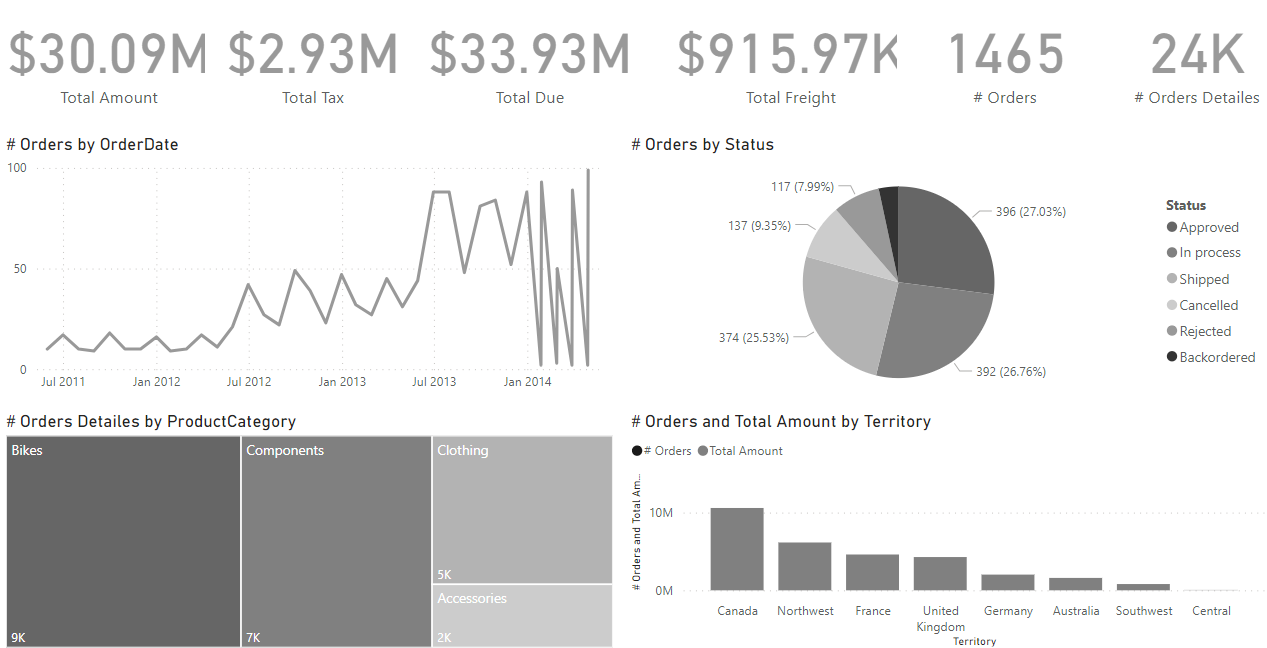

What the dashboard file says about the page in this screenshot:
{"tool":"powerbi","page":{"name":"Sales","canvas":[1280,720],"ordinal":0},"visuals":[{"type":"card","fields":{"Values":["DAX Measures.Total Amount"]},"box":[11.7,81.7,210.1,119.6],"z":0},{"type":"card","fields":{"Values":["DAX Measures.Total Due"]},"box":[412.4,81.7,227.6,119.6],"z":1000},{"type":"card","fields":{"Values":["DAX Measures.Total Freight"]},"box":[658.5,81.7,243.2,119.6],"z":2000},{"type":"card","fields":{"Values":["DAX Measures.Total Tax"]},"box":[210.1,81.7,210.1,119.6],"z":3000},{"type":"card","fields":{"Values":["DAX Measures.# Orders"]},"box":[883.2,81.7,210.1,119.6],"z":4000},{"type":"card","fields":{"Values":["DAX Measures.# Orders Detailes"]},"box":[1069.9,81.7,210.1,119.6],"z":5000},{"type":"lineChart","fields":{"Y":["DAX Measures.# Orders"],"Category":["Sales.OrderDate"]},"box":[11.7,215.9,600.1,258.7],"z":6000},{"type":"treemap","fields":{"Group":["Sales.ProductCategory","Sales.ProductSubCategory","Sales.Product"],"Values":["DAX Measures.# Orders Detailes"]},"box":[12,485,600,235],"z":7000},{"type":"pieChart","fields":{"Category":["Sales.Status"],"Y":["DAX Measures.# Orders"]},"box":[619.6,215.9,627.4,269.4],"z":8000},{"type":"lineStackedColumnComboChart","fields":{"Category":["Sales.Territory"],"Y":["DAX Measures.# Orders","DAX Measures.Total Amount"]},"box":[619.6,485.3,627.4,234.4],"z":9000}]}

Visuals, with their boxes in screenshot pixels (x1, y1, x2, y2):
card - DAX Measures.Total Amount: (left=5, top=35, right=205, bottom=149)
card - DAX Measures.Total Due: (left=386, top=35, right=603, bottom=149)
card - DAX Measures.Total Freight: (left=620, top=35, right=852, bottom=149)
card - DAX Measures.Total Tax: (left=193, top=35, right=393, bottom=149)
card - DAX Measures.# Orders: (left=834, top=35, right=1034, bottom=149)
card - DAX Measures.# Orders Detailes: (left=1012, top=35, right=1212, bottom=149)
lineChart - DAX Measures.# Orders x Sales.OrderDate: (left=5, top=163, right=576, bottom=409)
treemap - Sales.ProductCategory x Sales.ProductSubCategory: (left=5, top=419, right=576, bottom=643)
pieChart - Sales.Status x DAX Measures.# Orders: (left=583, top=163, right=1181, bottom=419)
lineStackedColumnComboChart - Sales.Territory x DAX Measures.# Orders: (left=583, top=419, right=1181, bottom=642)
